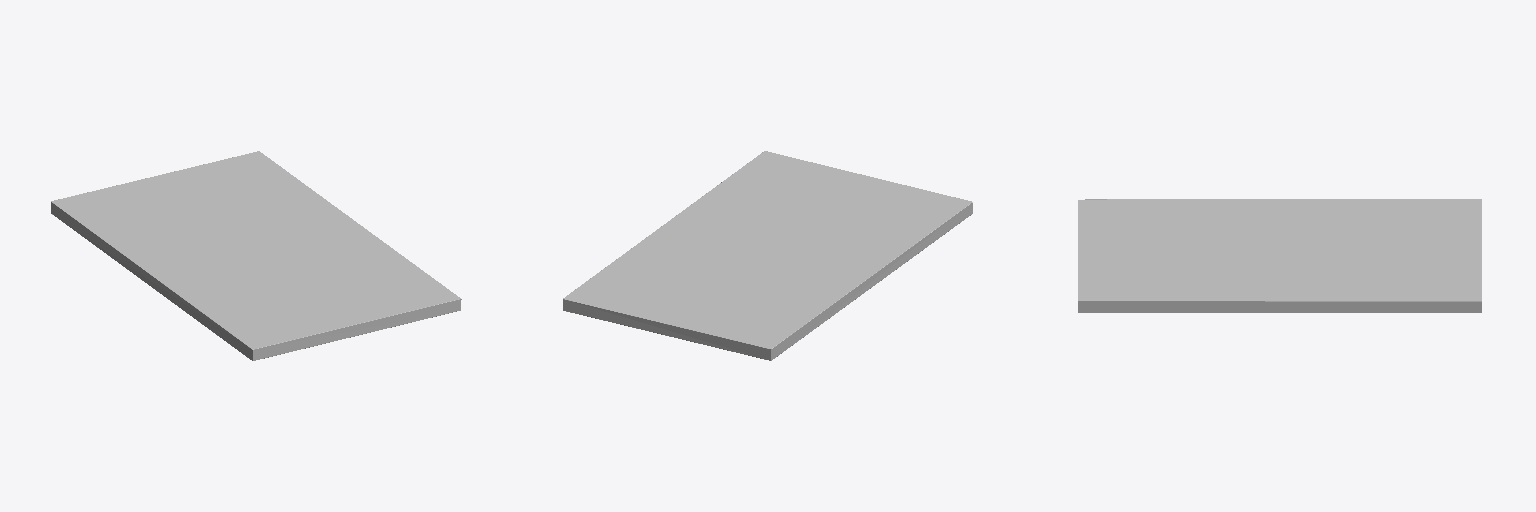
The model's file is CuttingBoard004.obj.
The picture shows the model from 3 angles: view 1: azimuth 30°, elevation 25°; view 2: azimuth 150°, elevation 25°; view 3: azimuth 270°, elevation 25°; orthographic projection.
Visible parts, largest first — view 1: CuttingBoard003; view 2: CuttingBoard003; view 3: CuttingBoard003.
Part boxes in pixels (left/top/right/bottom): CuttingBoard003: left=51, top=151, right=461, bottom=360; CuttingBoard003: left=563, top=151, right=972, bottom=360; CuttingBoard003: left=1078, top=199, right=1481, bottom=312.
Bounding box in the file's own units: 0.2641 × 0.0148 × 0.443.